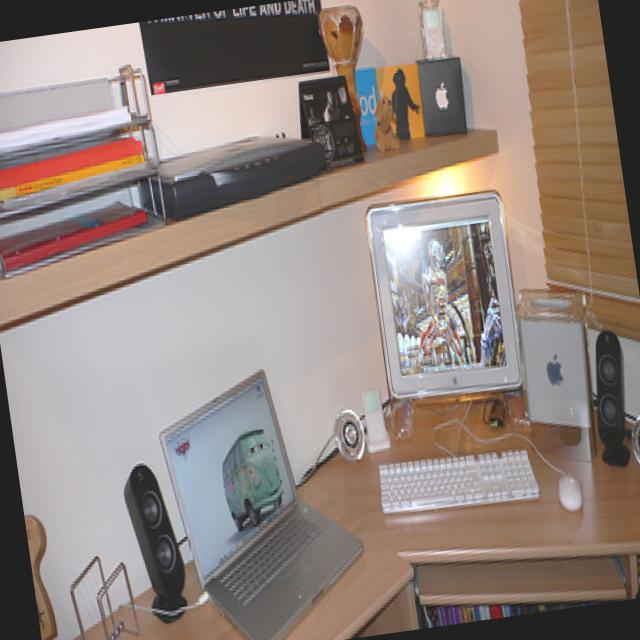Vehicle: (217, 427, 290, 532)
